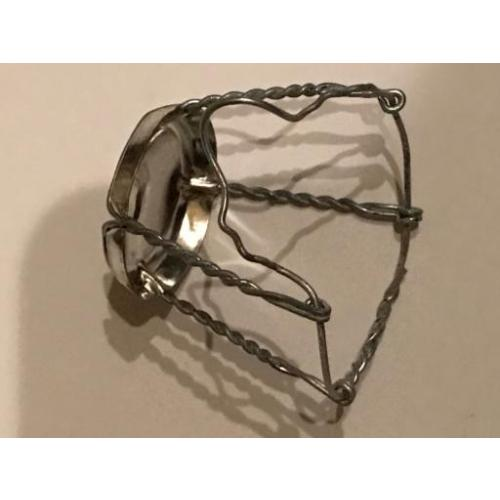metal: (101, 105, 219, 297)
